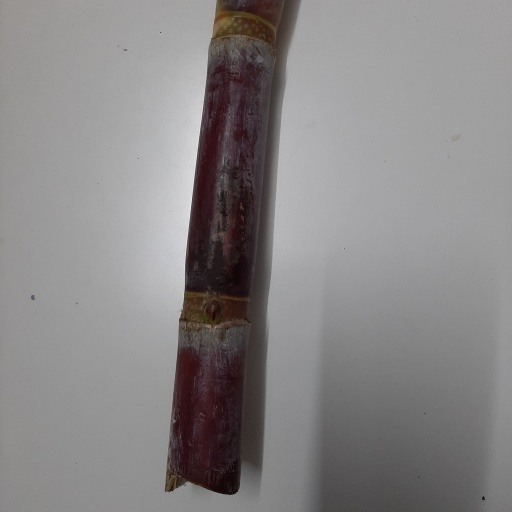Bud: (204, 298, 222, 325)
